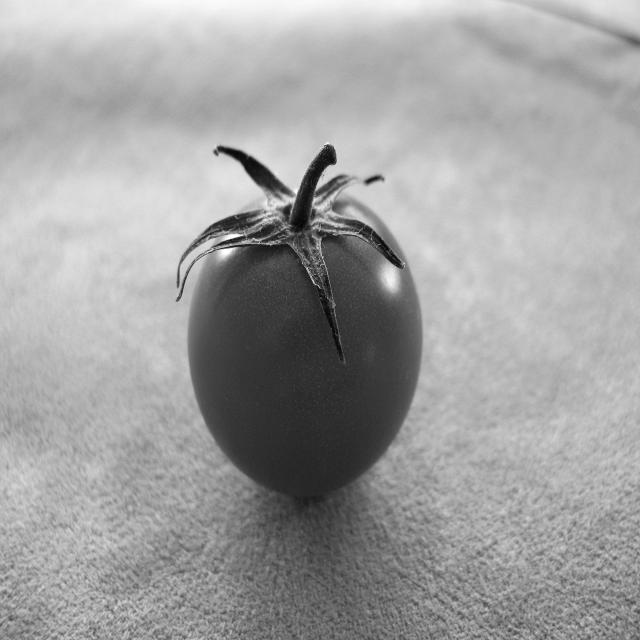Fresh_tomato: (198, 171, 424, 486)
